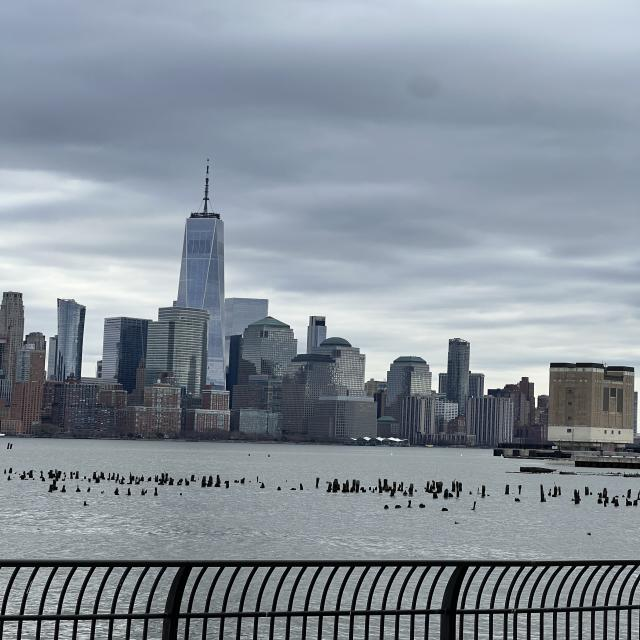WTC: (175, 156, 226, 307)
